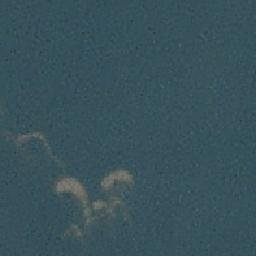debris: (1, 130, 47, 144), (102, 167, 132, 186), (55, 175, 86, 193), (93, 197, 123, 212), (77, 195, 91, 216), (67, 224, 80, 235), (83, 219, 91, 231)
